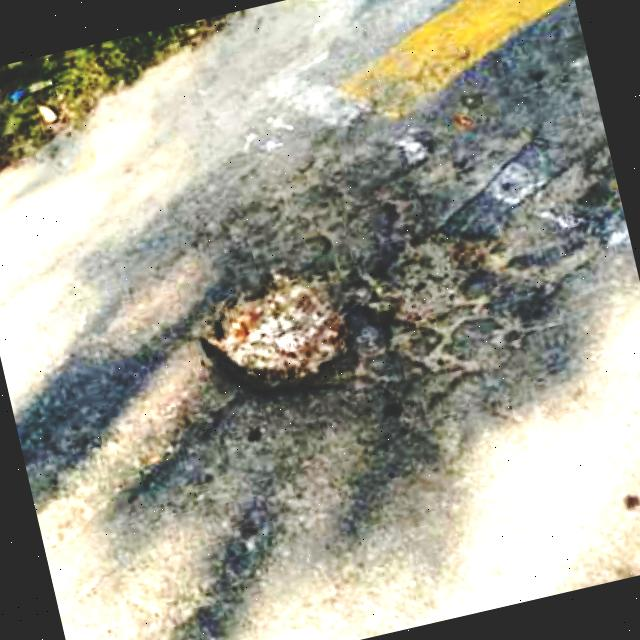pothole: (187, 249, 386, 416)
